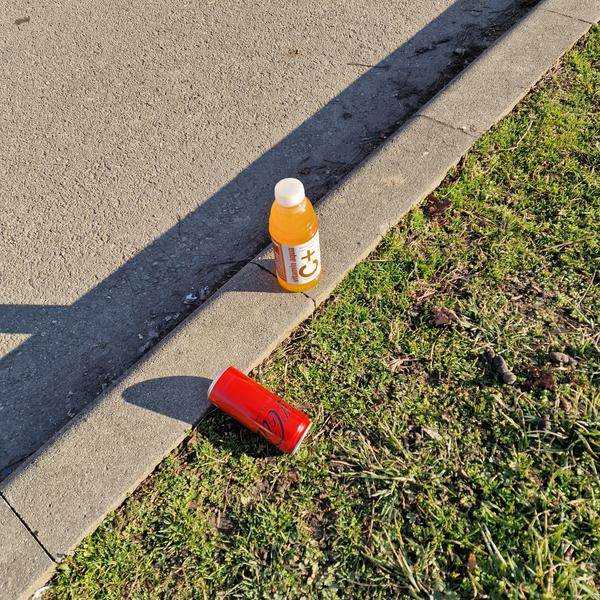can: (200, 359, 319, 462)
plastic_bottle: (261, 172, 331, 296)
